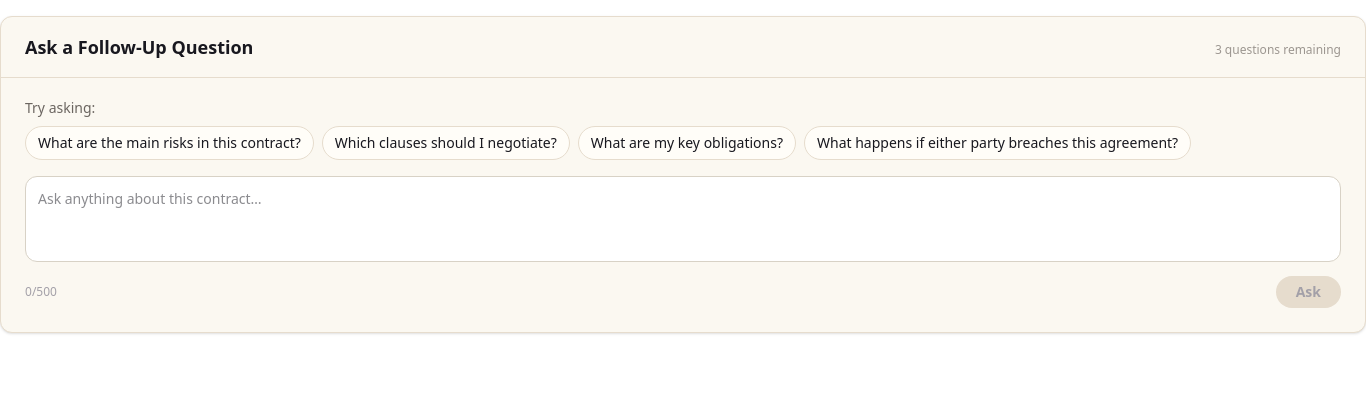
Test: FollowUpInput › shows network error on fetch failure
Type "Test question?" into the text box named "Follow-up question".
click(683, 219); type("Test question?")  # box [25,176,1341,262]
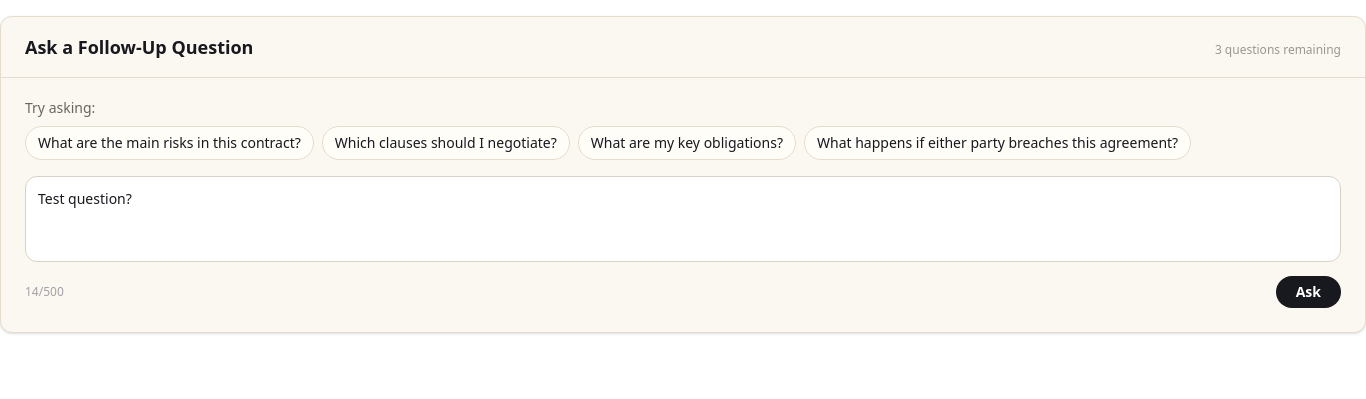
Click the button "Ask".
click(1308, 292)  # box [1276,276,1341,308]
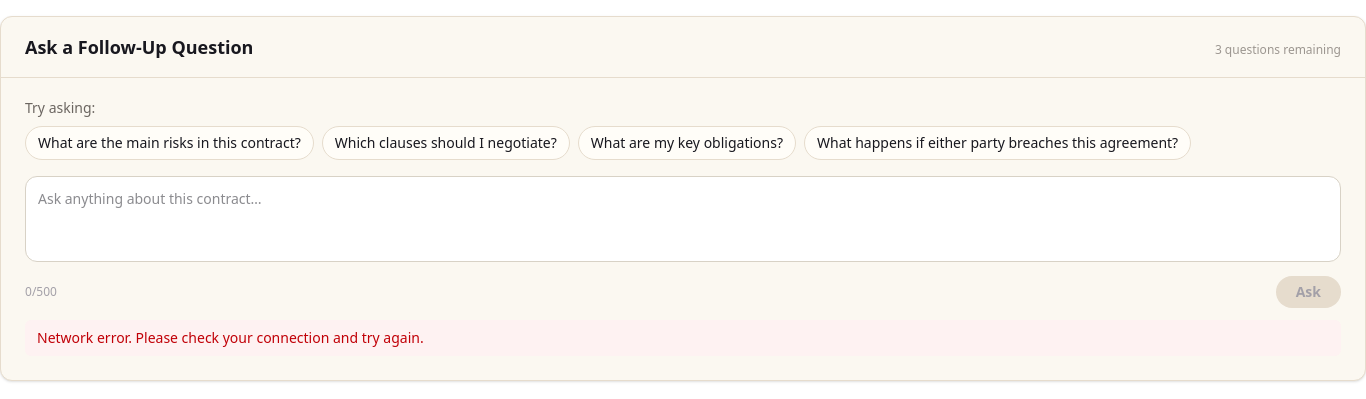
Expected: the text "Network error. Please check your connection and try again." is shown, [25,320,1341,356]
